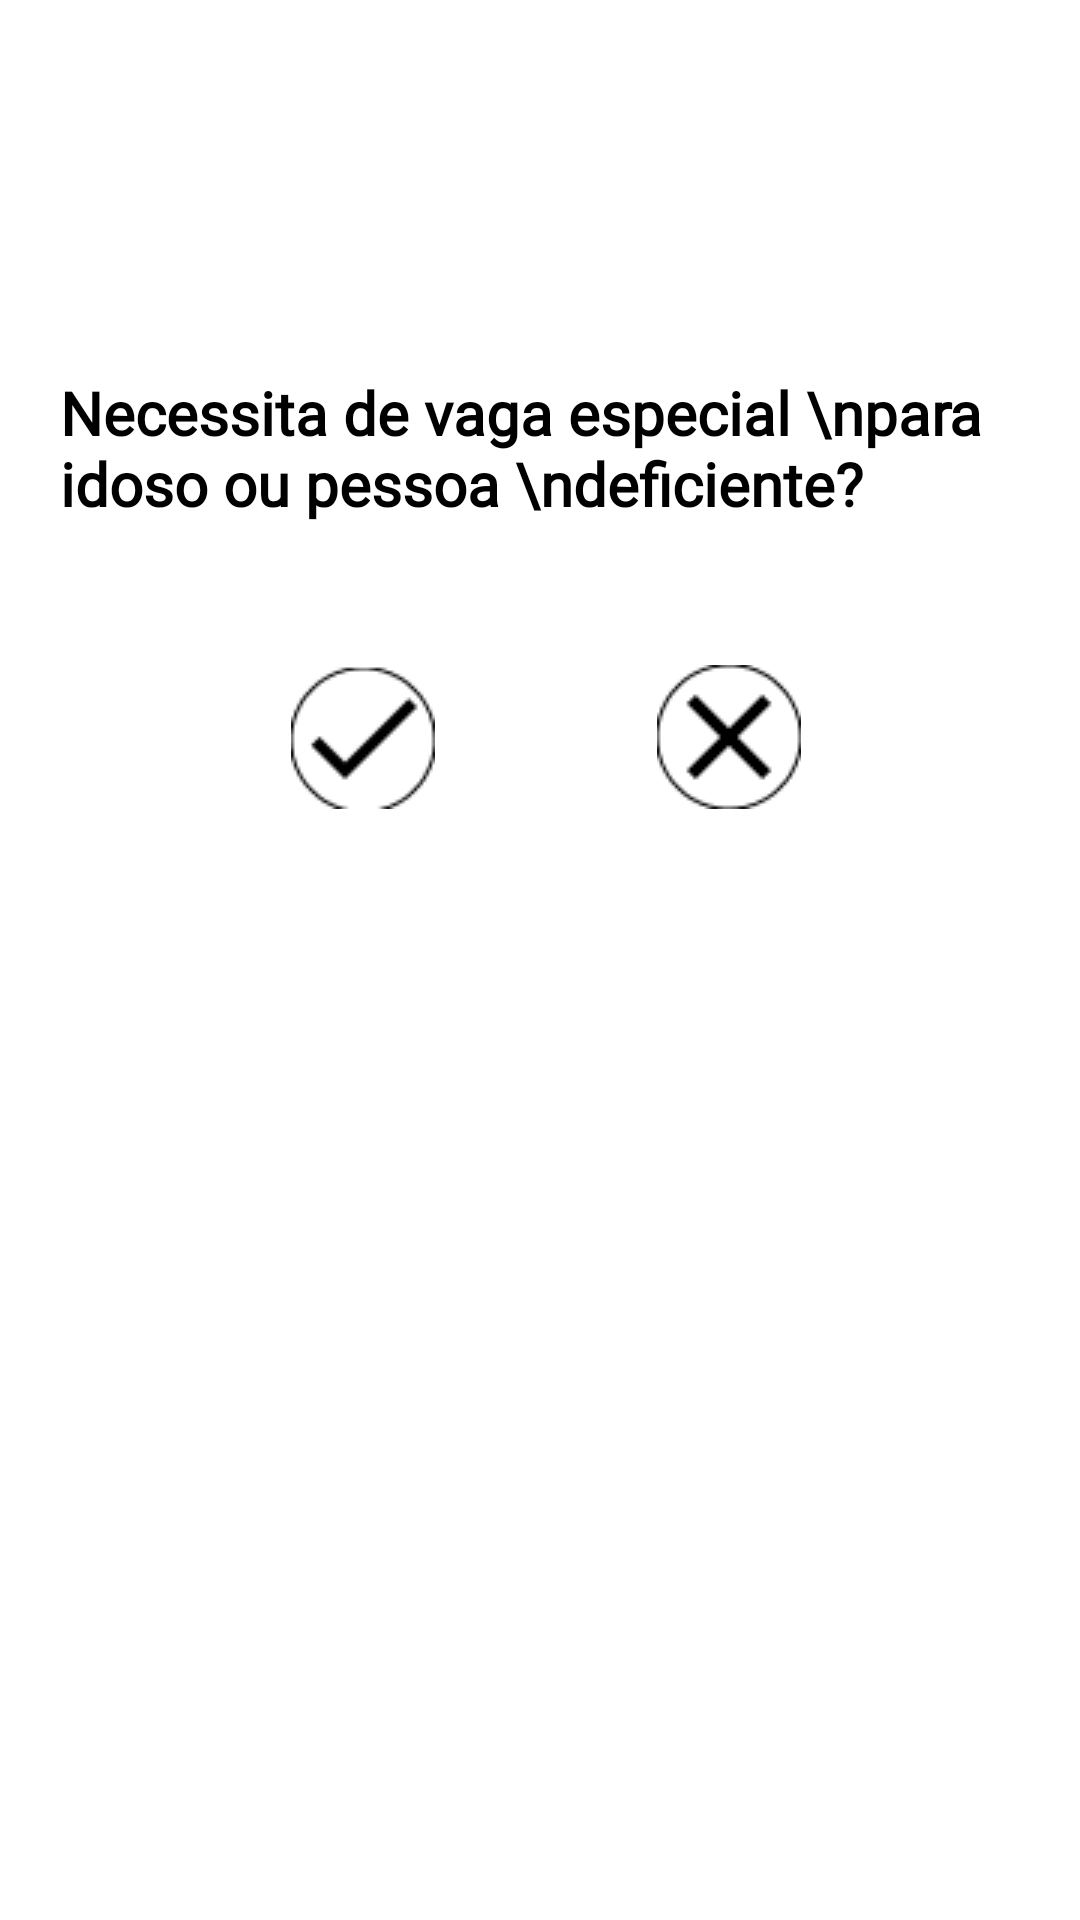

Screen size 1080 × 1920. Icon name, then its center in pixels as (x,y):
clear: (729,737)
done: (363,738)
